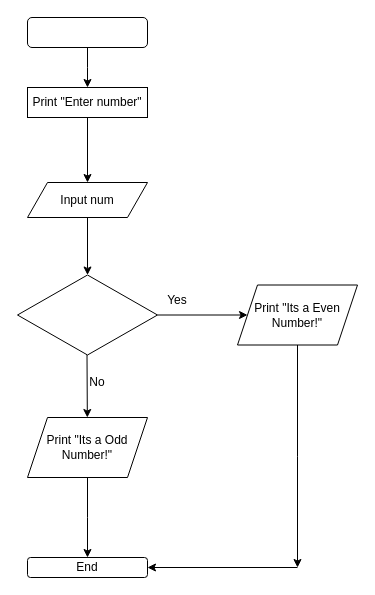
This 375x595 diagram has some shape labels left out. The centre of each missing label's shape, as x and y in pixels:
num%2==0: (87,314)
Start: (87,32)
